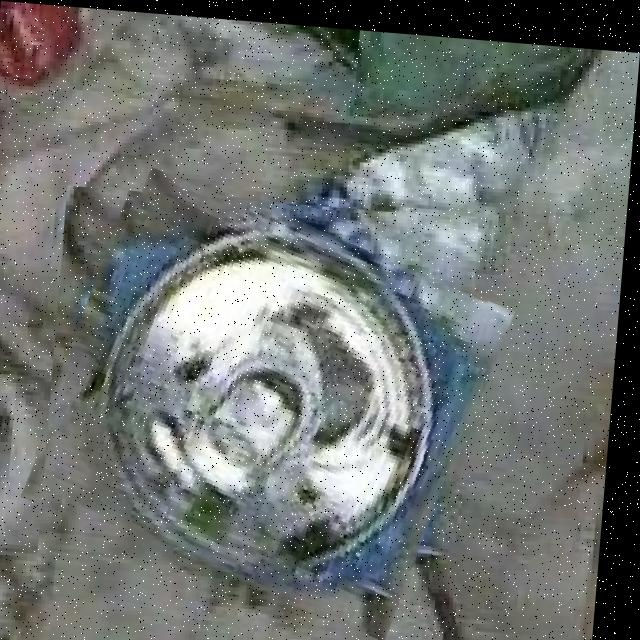can: (44, 183, 504, 613)
